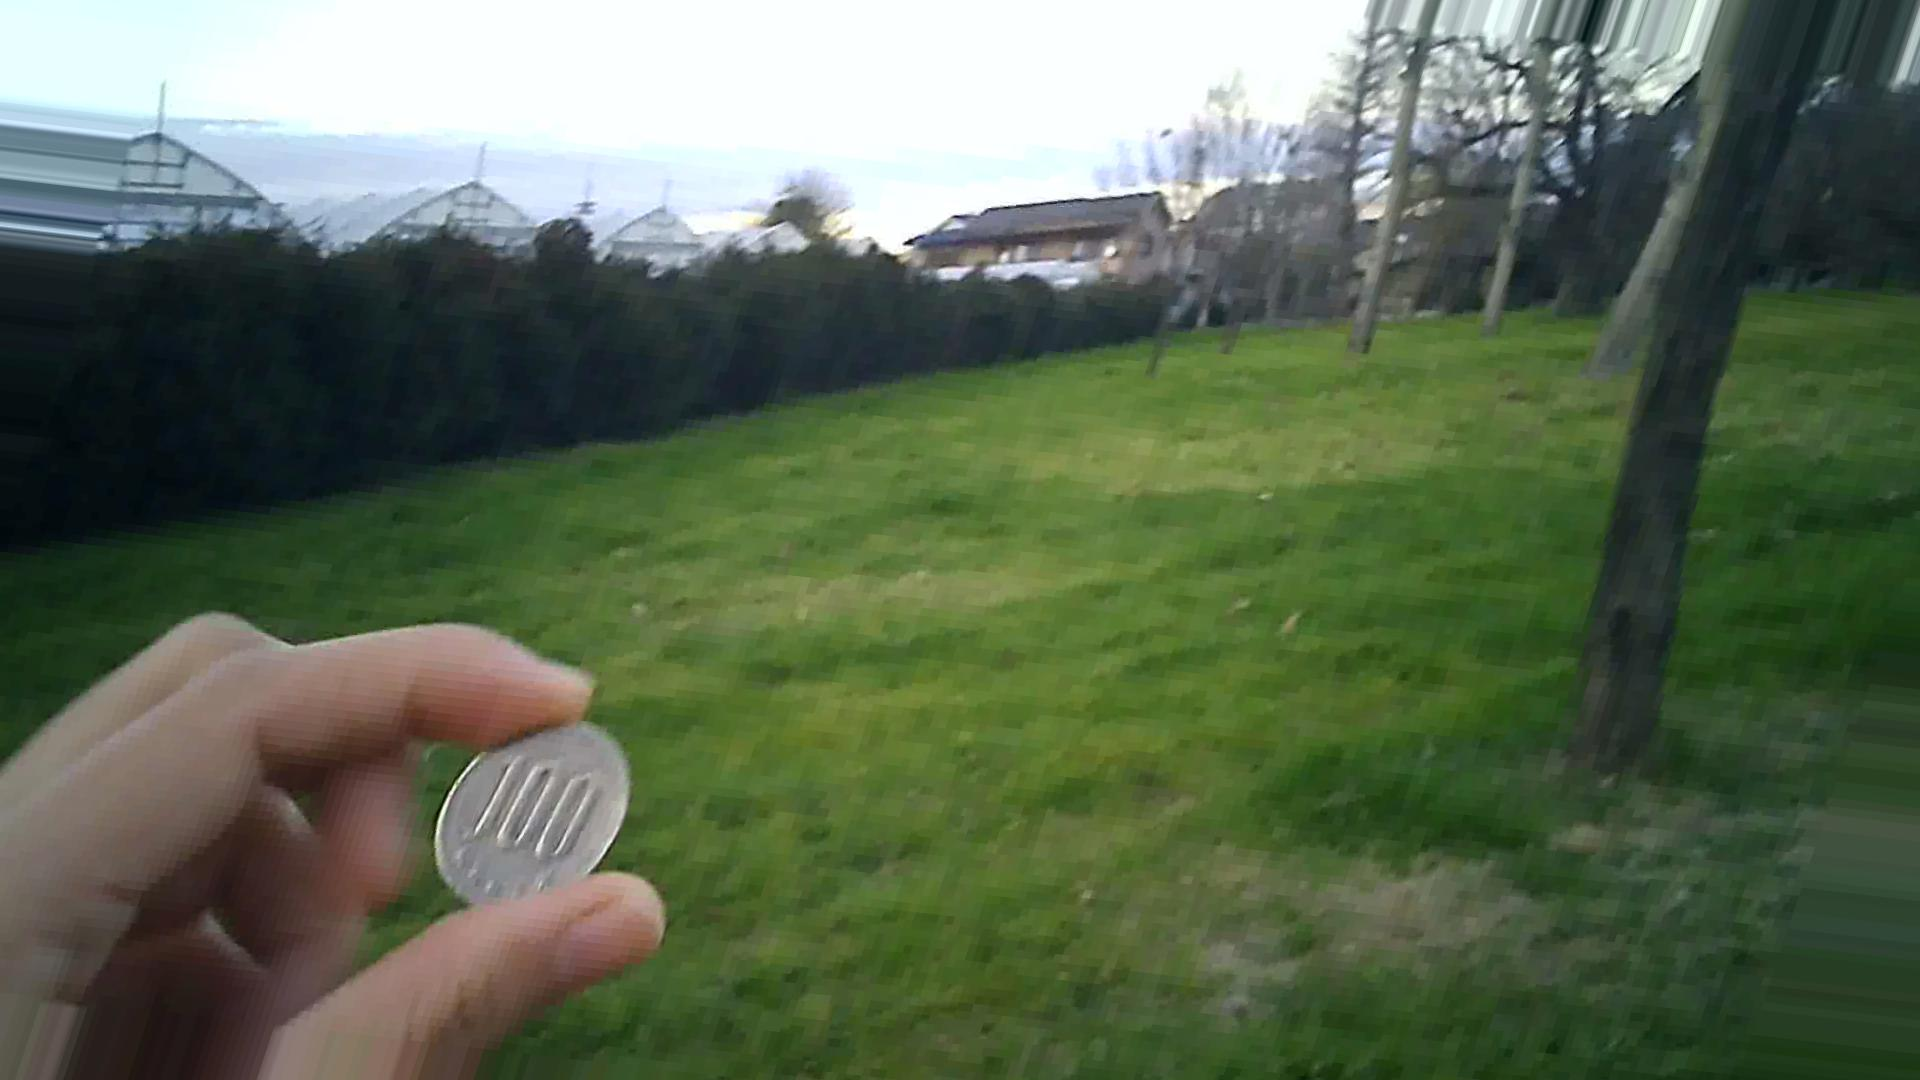100 Yen: (433, 702, 634, 905)
